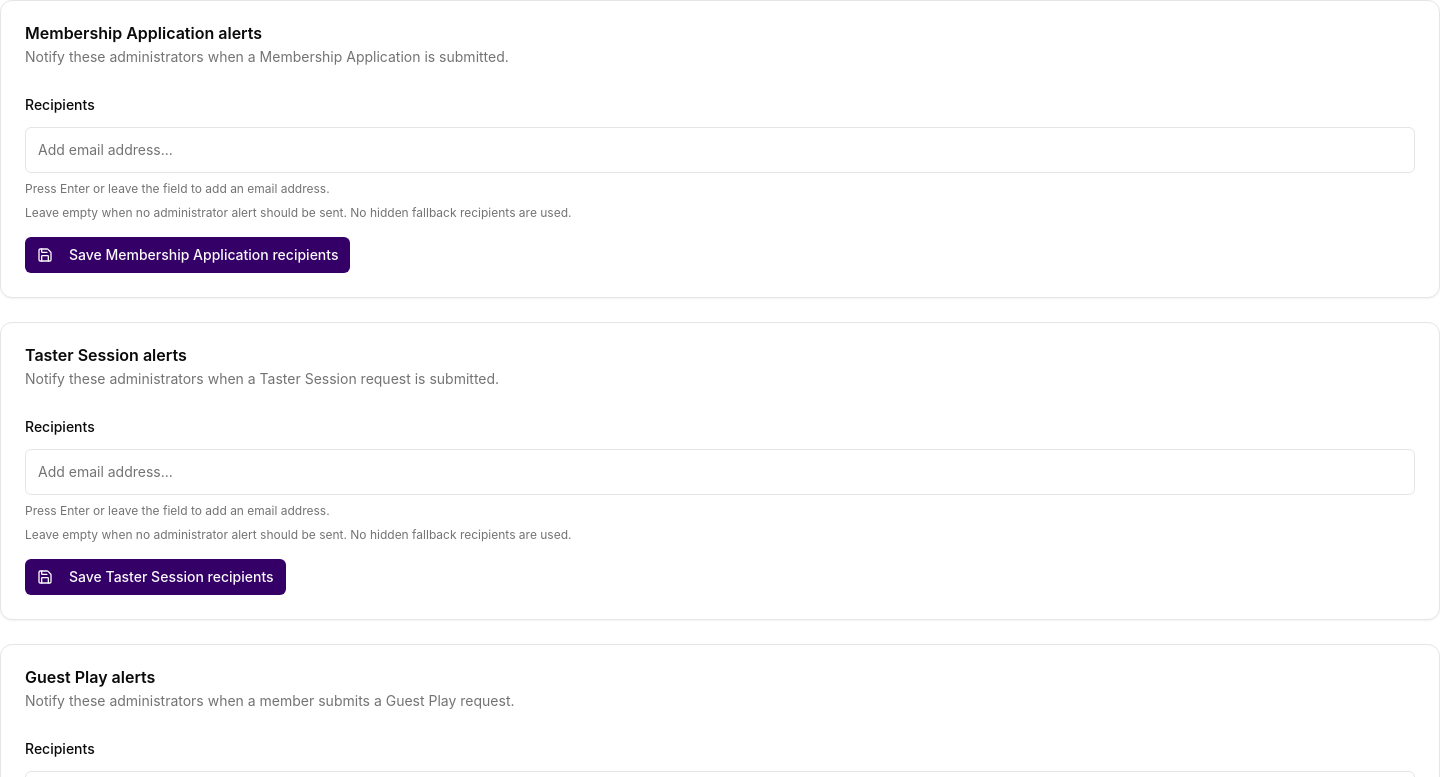
it: Notification Settings state convergence › converges the saved family to server data without losing another dirty draft
Expected: the text "Membership Application alerts" is shown, [25,23,262,43]
Type "application@example.test" into the field labelled "Recipients" below "Membership Application alerts" at coordinates (720, 150), box [38,140,1402,160]
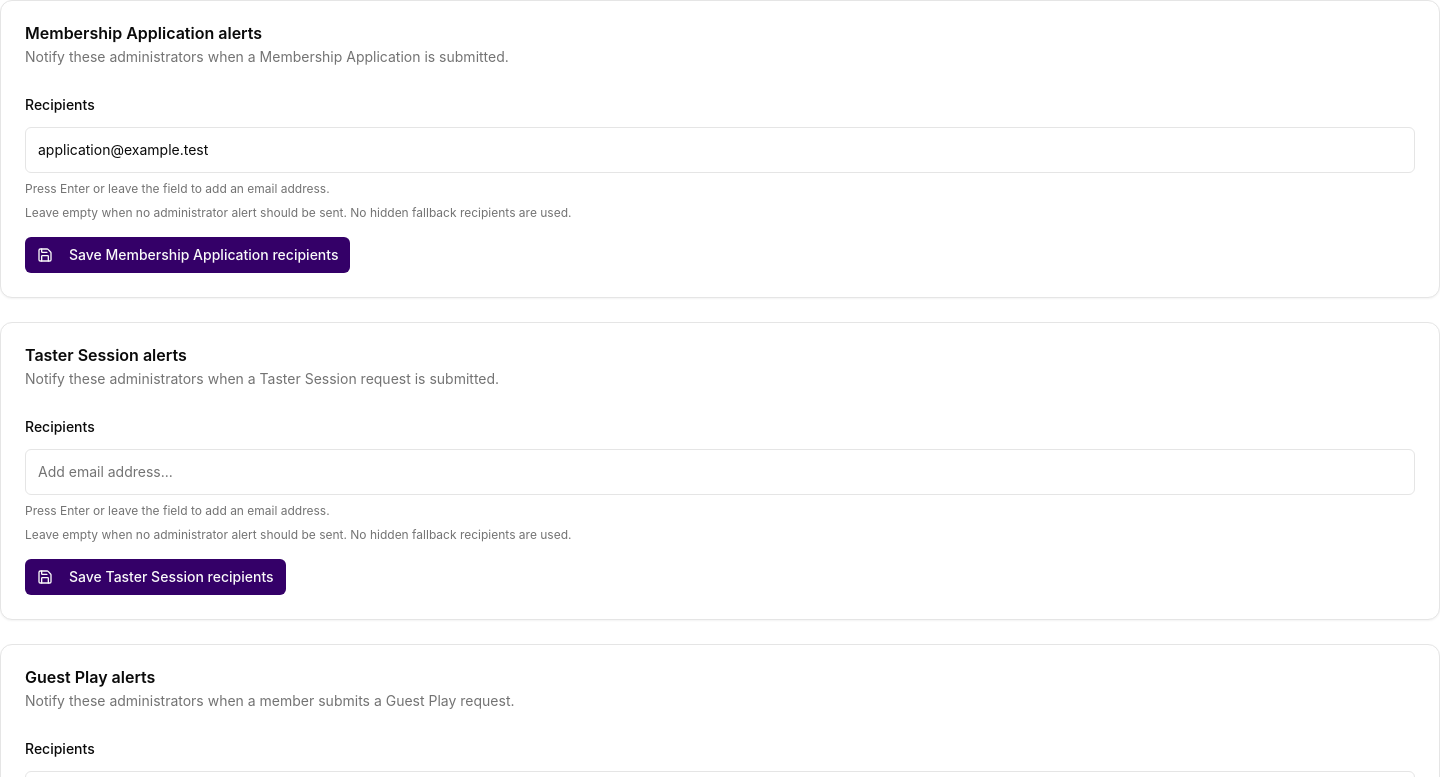
Press Enter in the field labelled "Recipients" below "Membership Application alerts", box [38,140,1402,160]
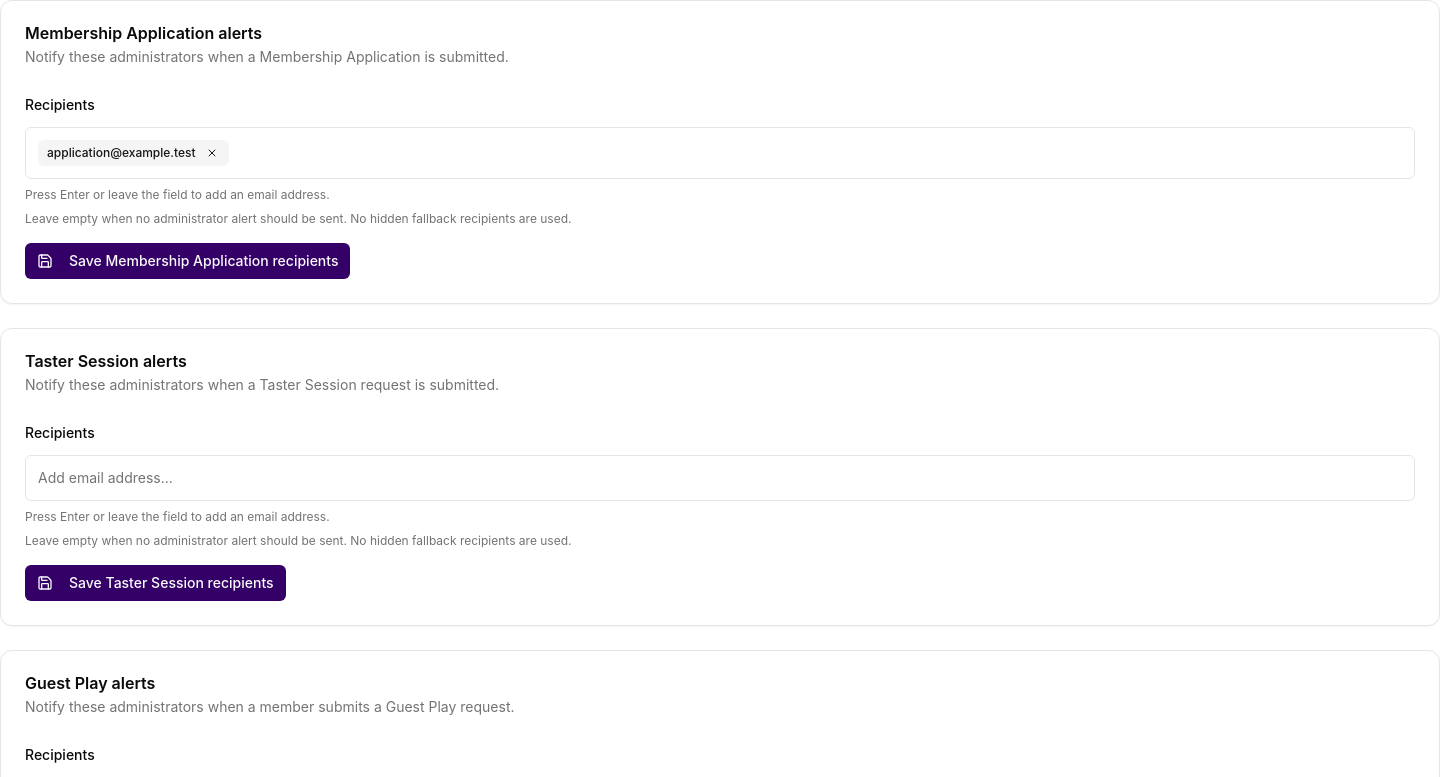
Type "draft-taster@example.test" into the field labelled "Recipients" below "Taster Session alerts" at coordinates (720, 478), box [38,468,1402,488]
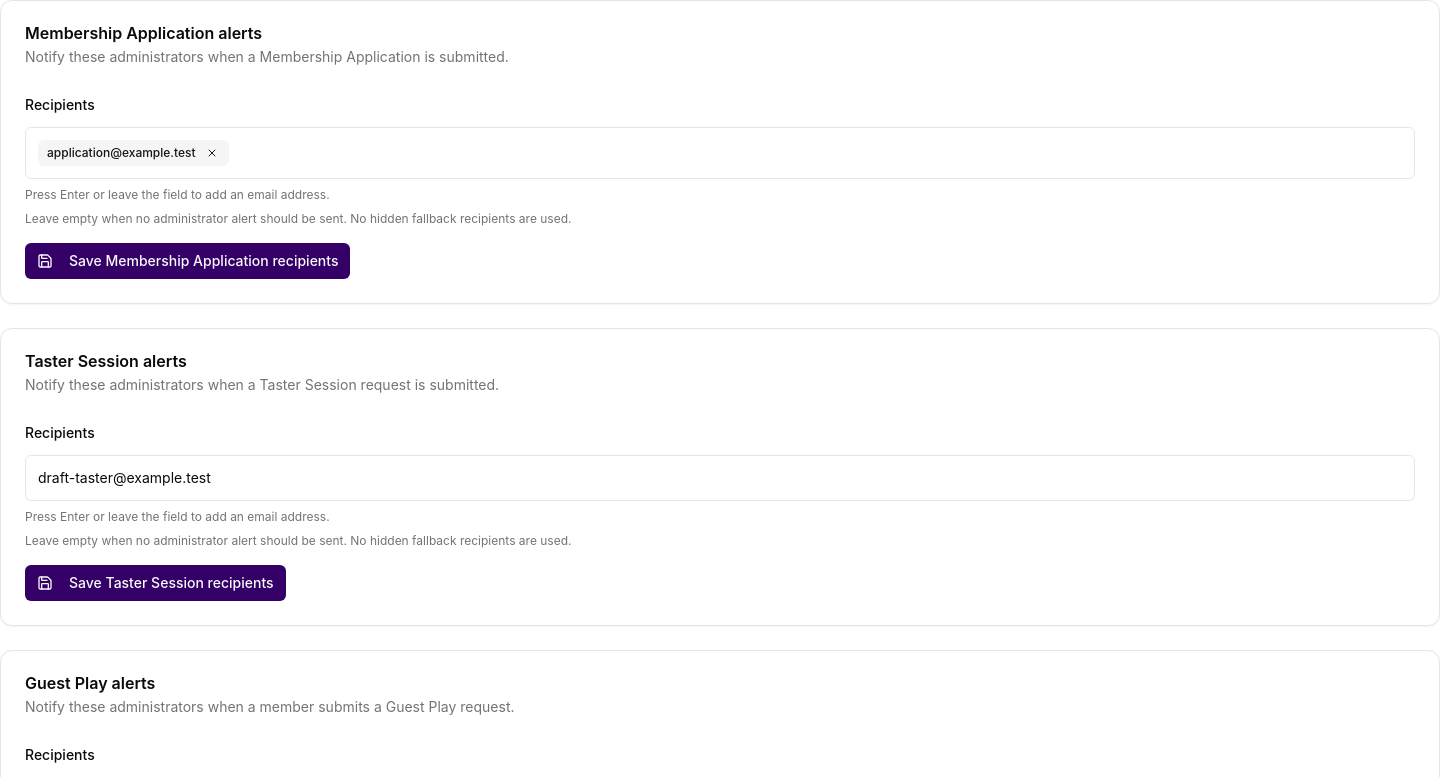
Press Enter in the field labelled "Recipients" below "Taster Session alerts", box [38,468,1402,488]
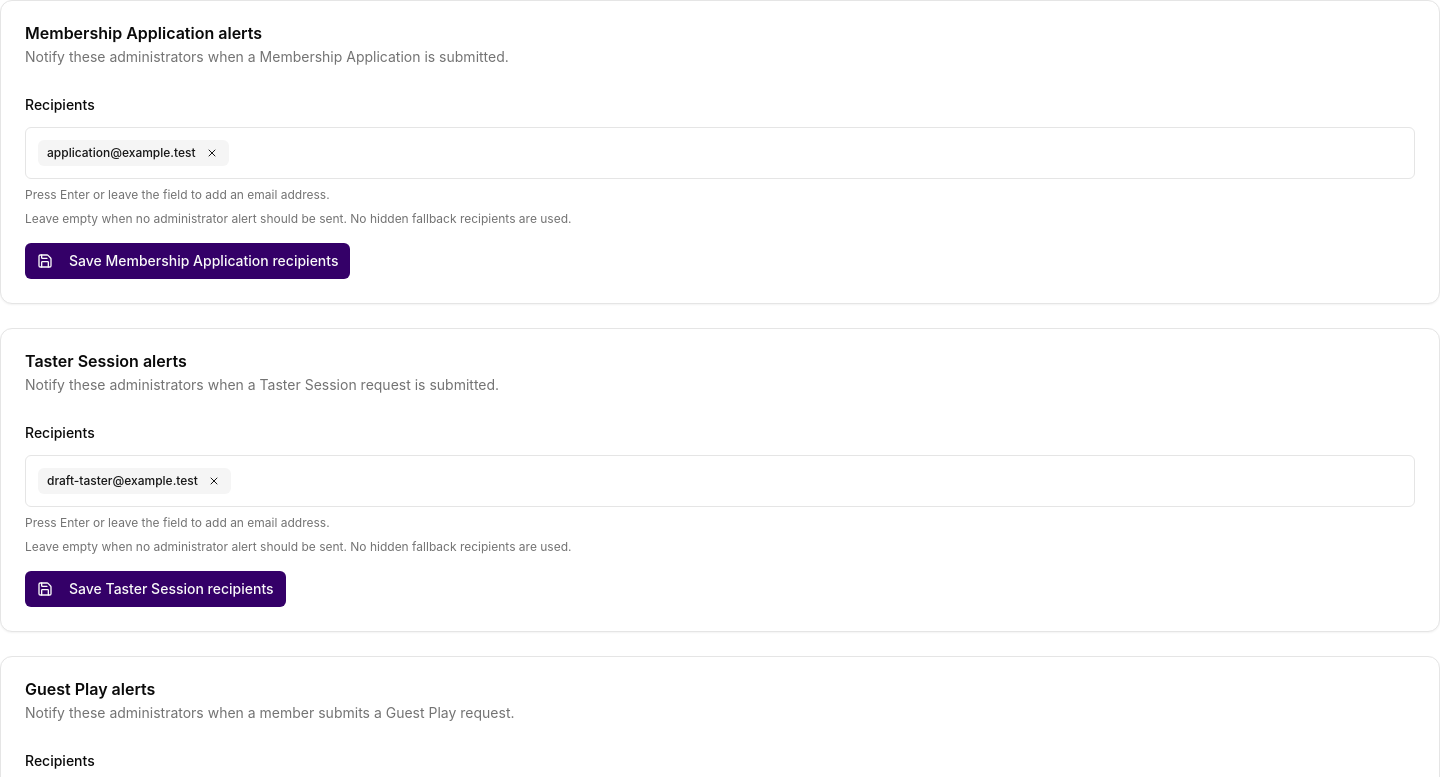
Click the button "Save Membership Application recipients" at coordinates (188, 261), box [25,243,350,279]
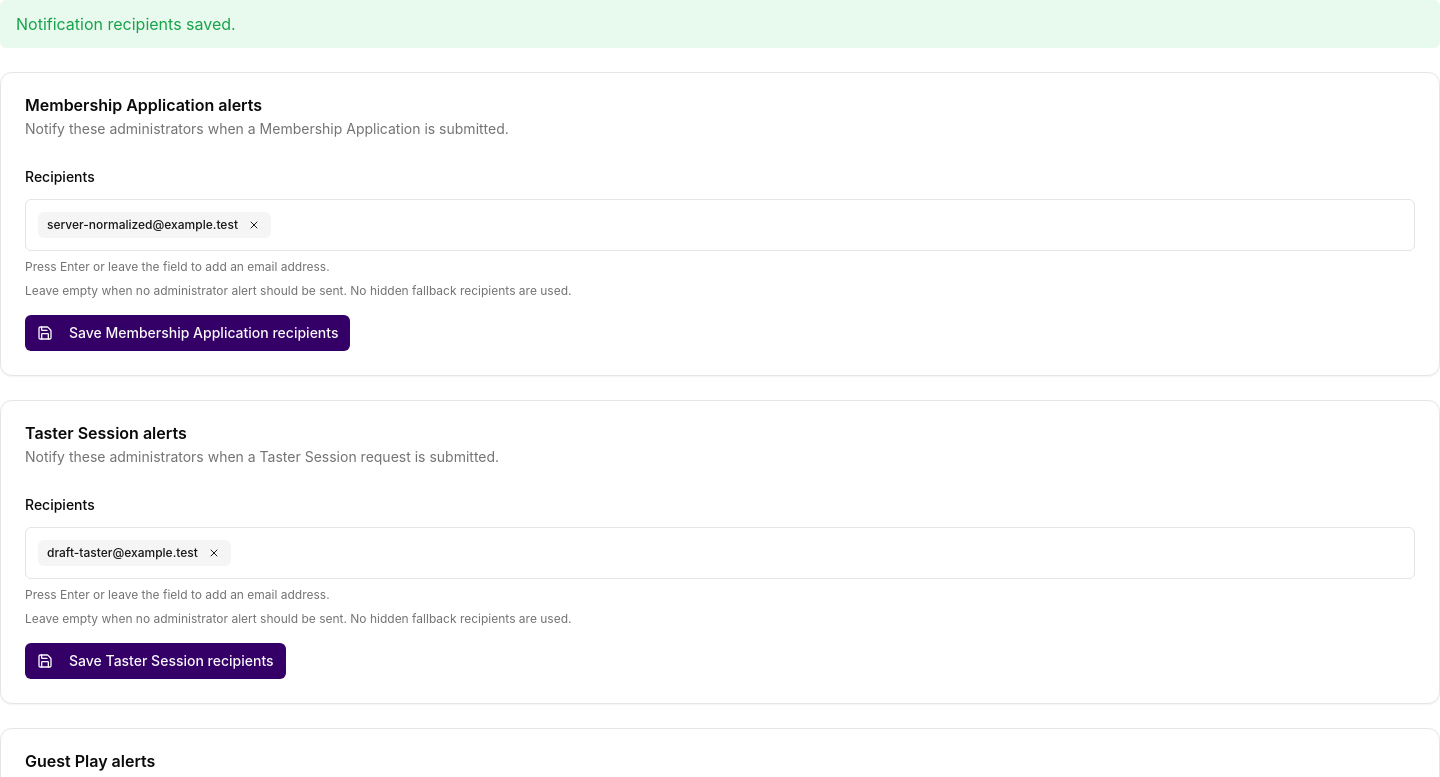
Expected: the text "draft-taster@example.test" is shown, [38,540,231,566]
Expected: the text "server-normalized@example.test" is shown, [38,212,271,238]
Expected: the text "application@example.test" is gone
